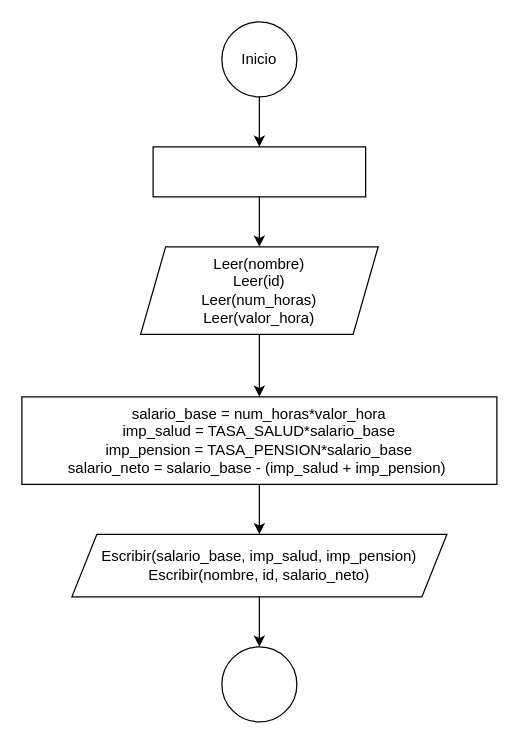
The diagram is 519 pixels wide and 744 high, and some of its shapes have lost their labels. Each missing label, with the centre of its shape:
Fin: the point at 259,684
TASA_SALUD = 0.1 TASA_PENSION = 0.15: the point at 259,171
